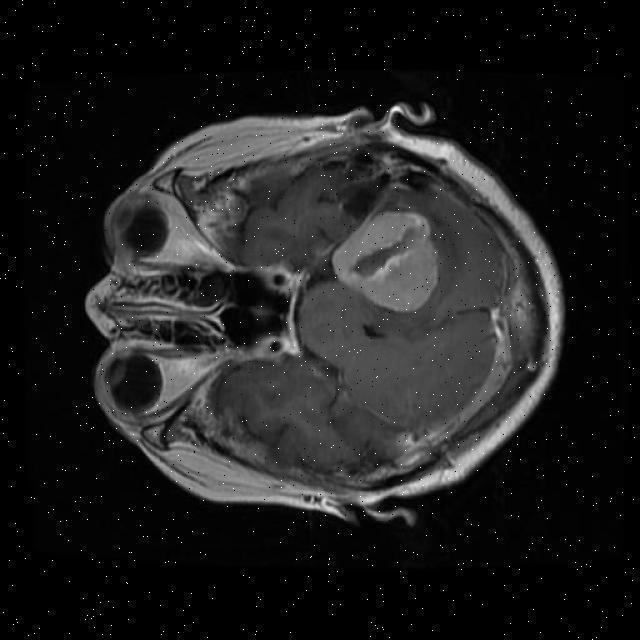Meningioma: (332, 211, 439, 312)
